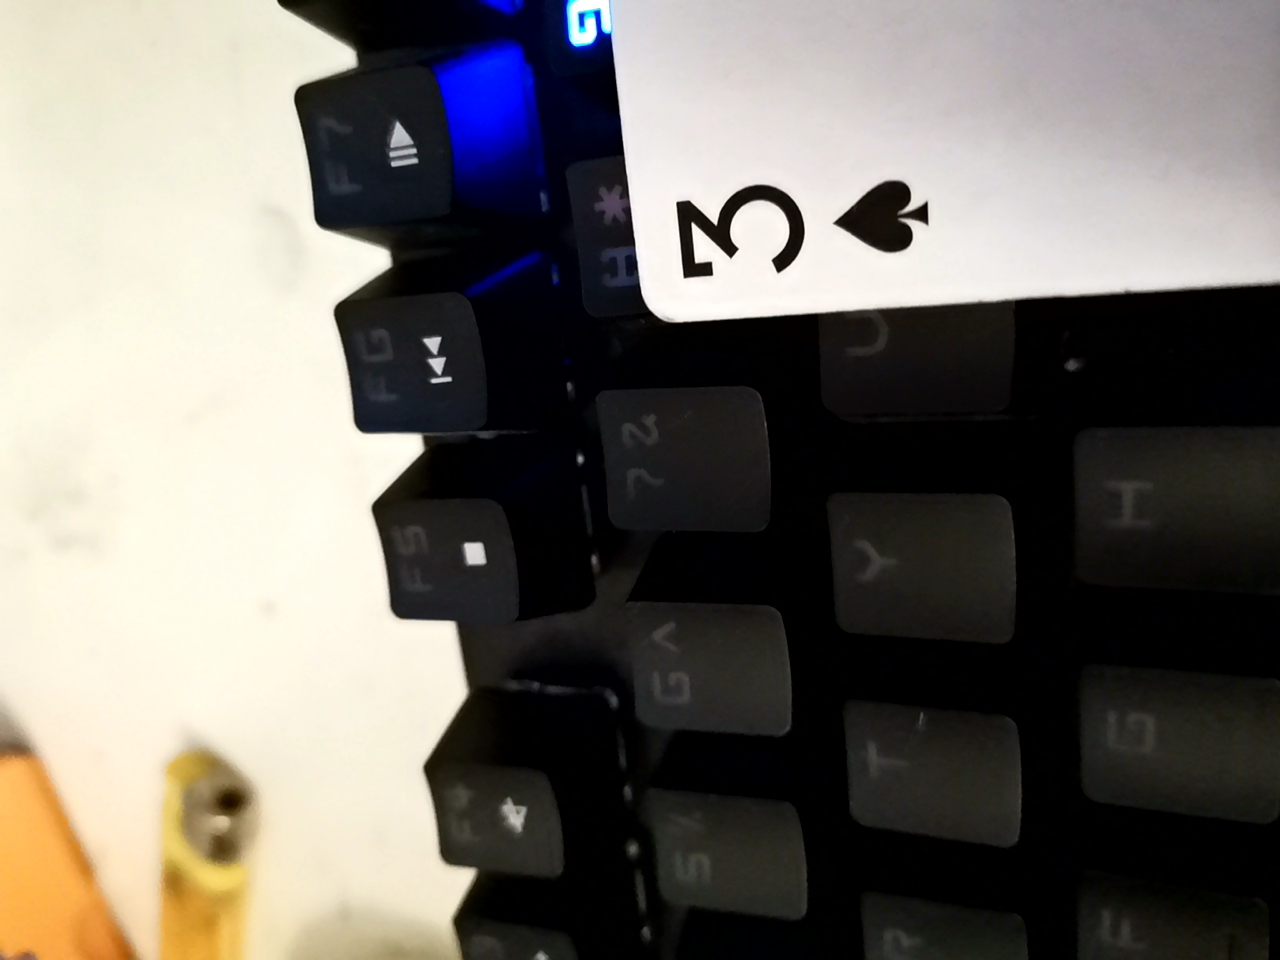ht 3: (560, 3, 1280, 354)
